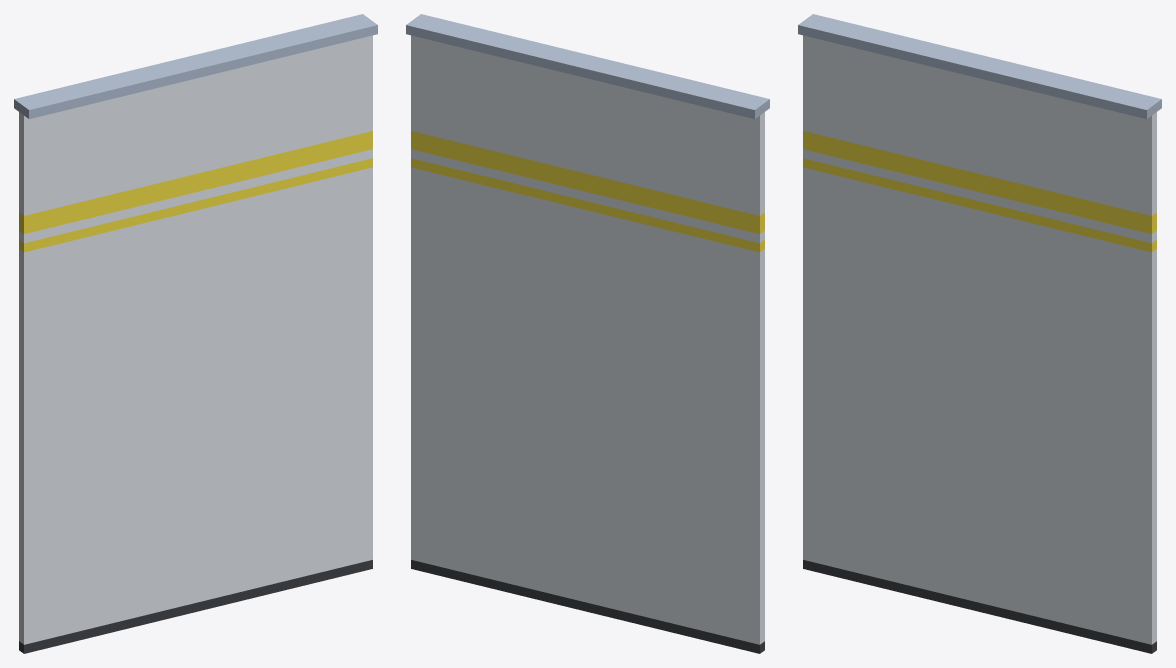
The model's file is wall-yellow.obj.
The picture shows the model from 3 angles, left to right: view 1: azimuth 30°, elevation 25°; view 2: azimuth 150°, elevation 25°; view 3: azimuth 330°, elevation 25°; orthographic projection.
Bounding box in the file's own units: 4 × 6 × 0.3.
1 material, 1 textured.
